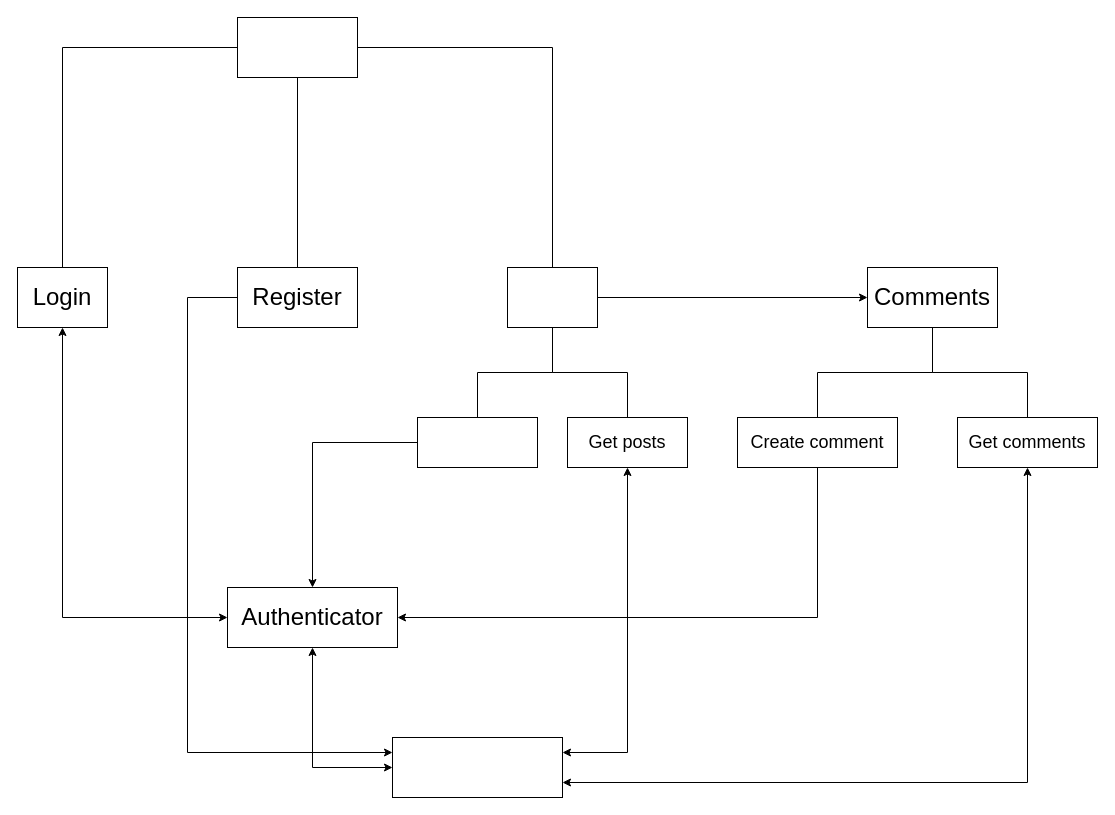
Some shapes in this 1115 by 815 pixel diagram are drawn without their labels. Here are the shapes that lost their labels. From the top down, the centre of each, then its label:
the point at 297,47: User
the point at 552,297: Posts
the point at 477,442: Create post
the point at 477,767: MongoDB Database
